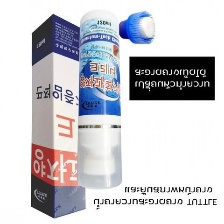aerosol_cans: (74, 6, 124, 191)
book: (28, 11, 88, 220)
